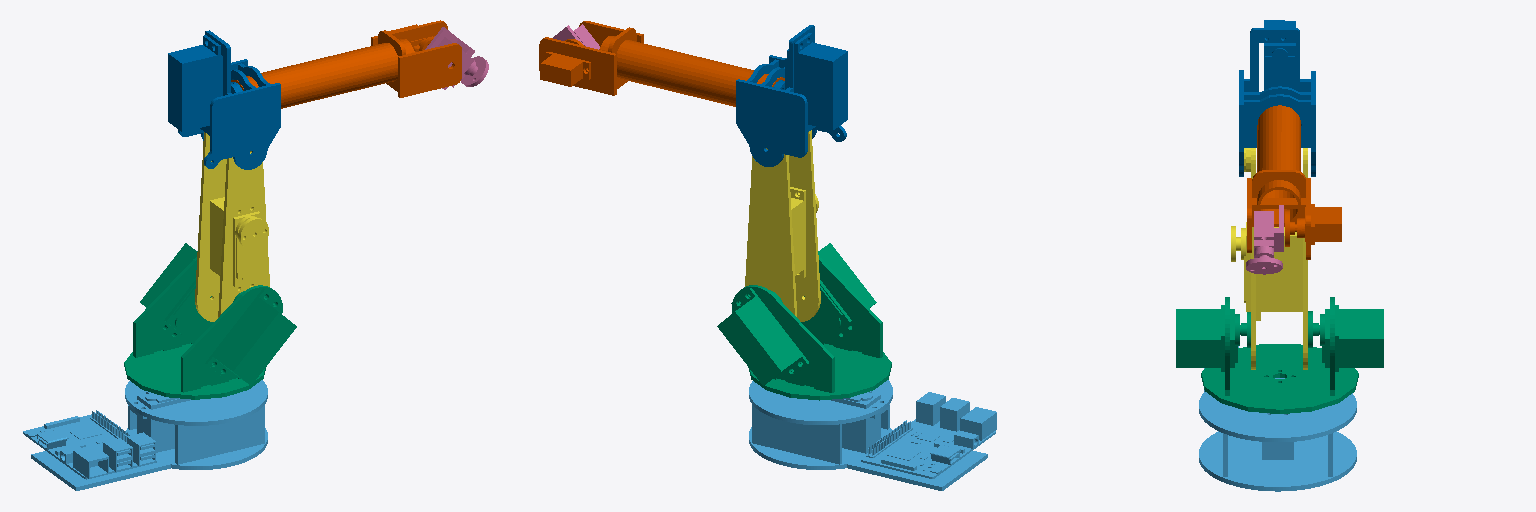
URDF robot description (arm2):
<?xml version="1.0"?>
<robot name="arm2" xmlns:xacro="http://ros.org/wiki/xacro">
<link name="world"/>


<link name="base_link">
<visual>
<geometry>
    <mesh filename="package://siro_arm/models/meshes/v_bot/part1.stl"/>
  </geometry>
</visual> 
<collision>
  <geometry>
    <mesh filename="package://siro_arm/models/meshes/c_bot/part1.dae"/>
  </geometry>
</collision>
</link>

<link name="link_1">
<visual>
<geometry>
    <mesh filename="package://siro_arm/models/meshes/v_bot/part2.stl"/>
  </geometry>
</visual> 
<collision>
  <geometry>
    <mesh filename="package://siro_arm/models/meshes/c_bot/part2.dae"/>
  </geometry>
</collision>
</link>

<link name="link_2">
<visual>
<geometry>
    <mesh filename="package://siro_arm/models/meshes/v_bot/part3.stl"/>
  </geometry>
</visual>
<collision>
  <geometry>
    <mesh filename="package://siro_arm/models/meshes/c_bot/part3.dae"/>
  </geometry>
</collision> 
</link> 

<link name="link_3">
<visual>
  <geometry>
    <mesh filename="package://siro_arm/models/meshes/v_bot/part4.stl"/>
  </geometry>
</visual>
<collision>
  <geometry>
    <mesh filename="package://siro_arm/models/meshes/c_bot/part4.dae"/>
  </geometry>
</collision> 
</link> 

<link name="link_4">
<visual>
  <geometry>
    <mesh filename="package://siro_arm/models/meshes/v_bot/part5.stl"/>
  </geometry>
</visual>
<collision>
  <geometry>
    <mesh filename="package://siro_arm/models/meshes/c_bot/part5.dae"/>
  </geometry>
</collision> 
</link>

<link name="gripper">
<visual>
  <geometry>
    <mesh filename="package://siro_arm/models/meshes/v_bot/part61.stl"/>
  </geometry>
</visual>
<collision>
  <geometry>
    <mesh filename="package://siro_arm/models/meshes/c_bot/part61.dae"/>
  </geometry>
</collision> 
</link> 

 <link name="end" /> 



<joint name="fixed" type="fixed">
    <parent link="world"/>
    <child link="base_link"/>
</joint>

<joint name="joint_1" type="revolute">
<parent link="base_link"/>
<child link="link_1"/>
<origin xyz="0 0 5" rpy="0 0 0"/>
<axis xyz="0 0 1"/>
<limit lower="-1.57" upper="1.57" effort="0" velocity="0.5"/>
</joint>

<joint name="joint_2" type="revolute">
<parent link="link_1"/>
<child link="link_2"/>
<origin xyz="2.866 -0.364 4.31385" rpy="0 0 0" />
<axis xyz="0 1 0"/>
<limit lower="-1.57" upper="1.57" effort="0" velocity="0.5"/>
</joint>

<joint name="joint_3" type="revolute">
<parent link="link_2"/>
<child link="link_3"/>
<origin xyz="0 2.51 12.01" rpy="0 0 0" />
<axis xyz="0 1 0"/>
<limit lower="-1.57" upper="1.57" effort="0" velocity="0.5"/>
</joint>  


<joint name="joint_4" type="revolute">
<parent link="link_3"/>
<child link="link_4"/>
<origin xyz="0.33 -2.184 2.885" rpy="0 0 0" />
<axis xyz="1 0 0"/>
<limit lower="-1.57" upper="1.57" effort="0" velocity="0.5"/>
</joint> 



<joint name="joint_5" type="revolute">
<parent link="link_4"/>
<child link="gripper"/>
<origin xyz="15.3 0.3 -0.2" rpy="0 0 0" />
<axis xyz="0 1 0"/>
<limit lower="-1.57" upper="1.57" effort="0" velocity="0.5"/>
</joint> 


<joint name="gripper_end" type="fixed" >
    <parent link="gripper" />
    <child link="end" />
    <origin xyz="0.45 -2.184 2.885" rpy="0 0 0" />
 </joint>










  <gazebo reference="camera_link">
    <sensor name="depth_camera" type="depth">
      <visualize>true</visualize>
      <update_rate>30.0</update_rate>
      <camera name="camera">
        <horizontal_fov>1.047198</horizontal_fov>
        <image>
          <width>640</width>
          <height>480</height>
          <format>R8G8B8</format>
        </image>
        <clip>
          <near>0.05</near>
          <far>3</far>
        </clip>
      </camera>
      <plugin name="depth_camera_controller" filename="libgazebo_ros_camera.so">
        <baseline>0.2</baseline>
        <alwaysOn>true</alwaysOn>
        <updateRate>0.0</updateRate>
        <frame_name>camera_depth_frame</frame_name>
        <pointCloudCutoff>0.5</pointCloudCutoff>
        <pointCloudCutoffMax>3.0</pointCloudCutoffMax>
        <distortionK1>0</distortionK1>
        <distortionK2>0</distortionK2>
        <distortionK3>0</distortionK3>
        <distortionT1>0</distortionT1>
        <distortionT2>0</distortionT2>
        <CxPrime>0</CxPrime>
        <Cx>0</Cx>
        <Cy>0</Cy>
        <focalLength>0</focalLength>
        <hackBaseline>0</hackBaseline>
      </plugin>
    </sensor>

    <sensor name="my_camera_sensor" update_rate="20">
      <parent link="optical_frame_link_name"/>
      <origin xyz="0 0 0" rpy="0 0 0"/>
      <camera>
        <image width="640" height="480" hfov="1.5708" format="RGB8" near="0.01" far="50.0"/>
      </camera>
    </sensor>

  </gazebo>



</robot>

--- Render facts (derived) ---
The picture shows the robot from 3 angles, left to right: view 1: azimuth 30°, elevation 25°; view 2: azimuth 150°, elevation 25°; view 3: azimuth 270°, elevation 25°; orthographic projection.
Robot: arm2 — 8 links, 7 joints (5 revolute, 2 fixed); root link world; default pose: every joint at zero.
Links seen in each view (by area): view 1: base_link, link_1, link_3, link_2, link_4, gripper; view 2: base_link, link_1, link_3, link_2, link_4, gripper; view 3: link_1, base_link, link_4, link_3, link_2, gripper.
Boxes of the visible links, x1,y1,x2,y2 form: base_link: (23,380,267,490); link_1: (124,243,296,399); link_3: (168,30,280,169); link_2: (195,132,269,321); link_4: (231,20,461,108); gripper: (425,27,488,89); base_link: (749,380,996,490); link_1: (717,243,891,400); link_3: (736,25,847,166); link_2: (745,130,820,321); link_4: (539,21,784,106); gripper: (553,24,599,49); link_1: (1176,297,1383,413); base_link: (1199,346,1356,491); link_4: (1247,105,1341,259); link_3: (1239,20,1315,176); link_2: (1231,148,1307,369); gripper: (1246,205,1283,274).
Bounding box of the posed robot: 32.71 × 12.51 × 29.16 m (x, y, z).
Meshes: 6 distinct files referenced, 6 mesh visuals loaded (6 binary STL).
